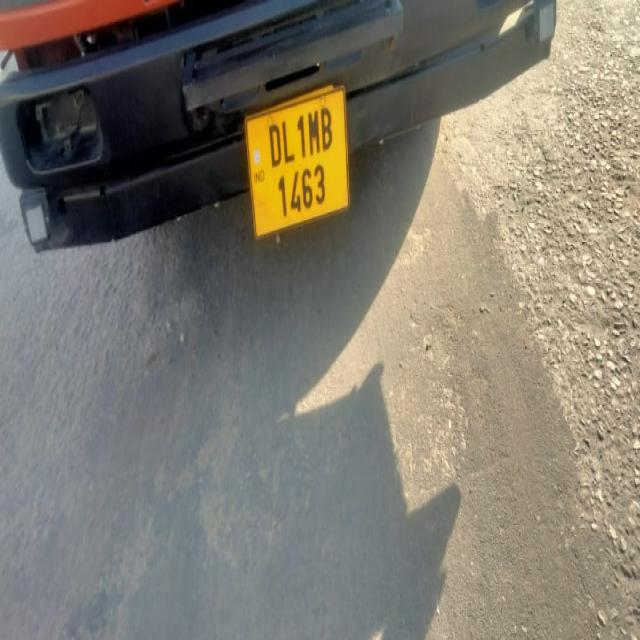License-plate: (242, 104, 363, 224)
